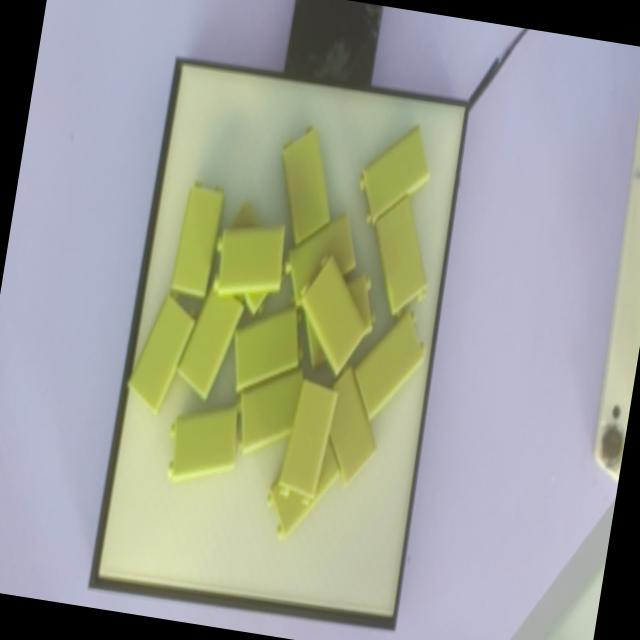bateria: (127, 294, 196, 415), (300, 254, 368, 375), (278, 379, 340, 505), (356, 310, 427, 420), (359, 126, 428, 224), (170, 181, 225, 299), (376, 195, 426, 319), (281, 125, 331, 243), (235, 306, 302, 392), (214, 225, 286, 296), (168, 407, 237, 481)
mesa: (88, 57, 469, 632)
